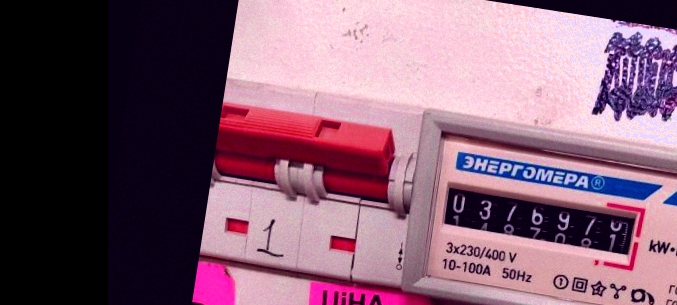0: (451, 189, 468, 213)
1: (604, 230, 619, 252)
3: (477, 196, 495, 221)
6: (529, 200, 547, 225)
7: (502, 197, 520, 222), (582, 212, 599, 236)
9: (554, 206, 572, 231)
screen: (430, 170, 649, 274)
